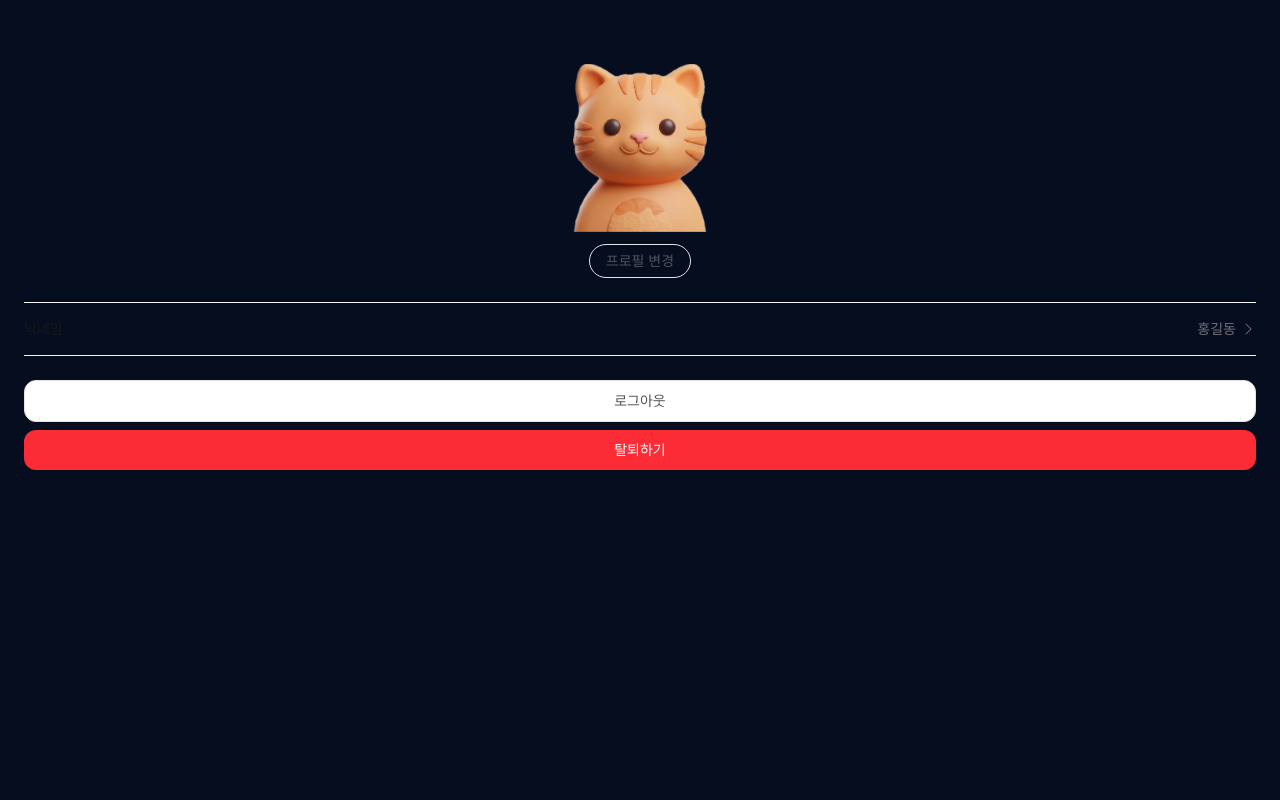
ProfileSettingsView › '프로필 변경' 클릭 시 닉네임/로그아웃 영역이 사라지고 아바타 그리드와 취소/변경하기 버튼이 표시된다
Click the button "프로필 변경" at (640, 261), box [589,244,691,278]
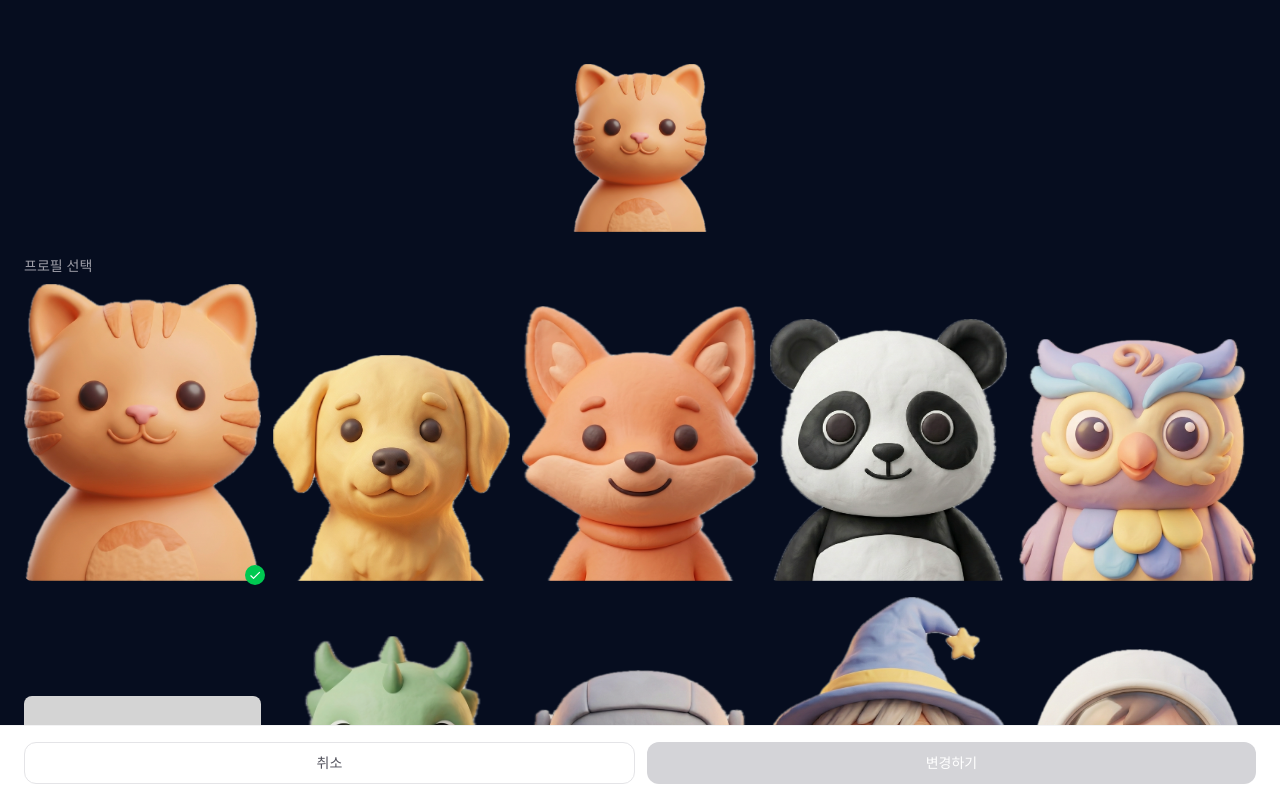
Check: the button "닉네임" is gone
Check: the button "로그아웃" is gone
Check: the button "탈퇴하기" is gone
